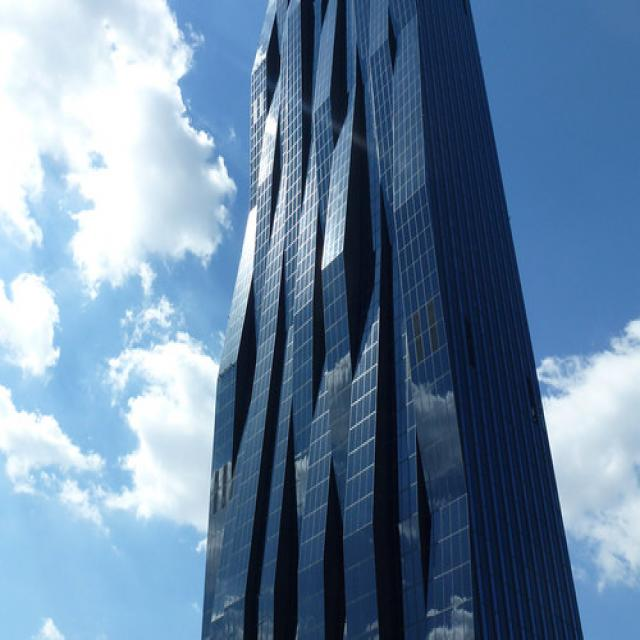Normal_building: (195, 1, 590, 640)
